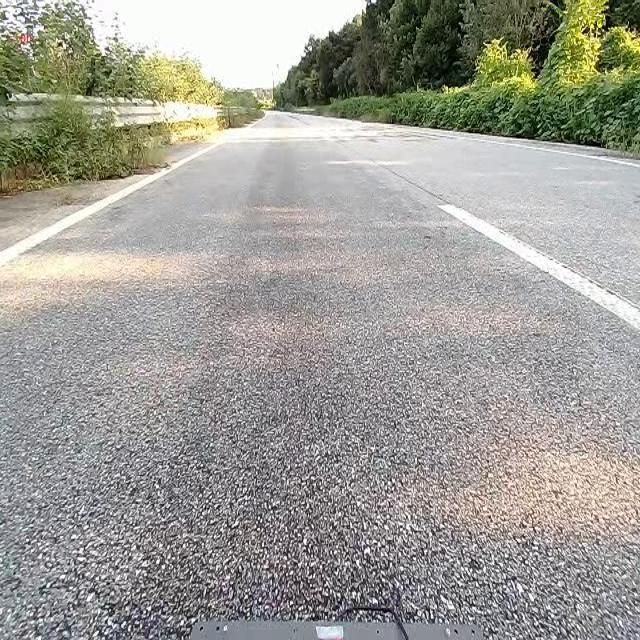Lane: (0, 139, 224, 270), (434, 198, 640, 333), (0, 142, 221, 267), (438, 204, 639, 332)
